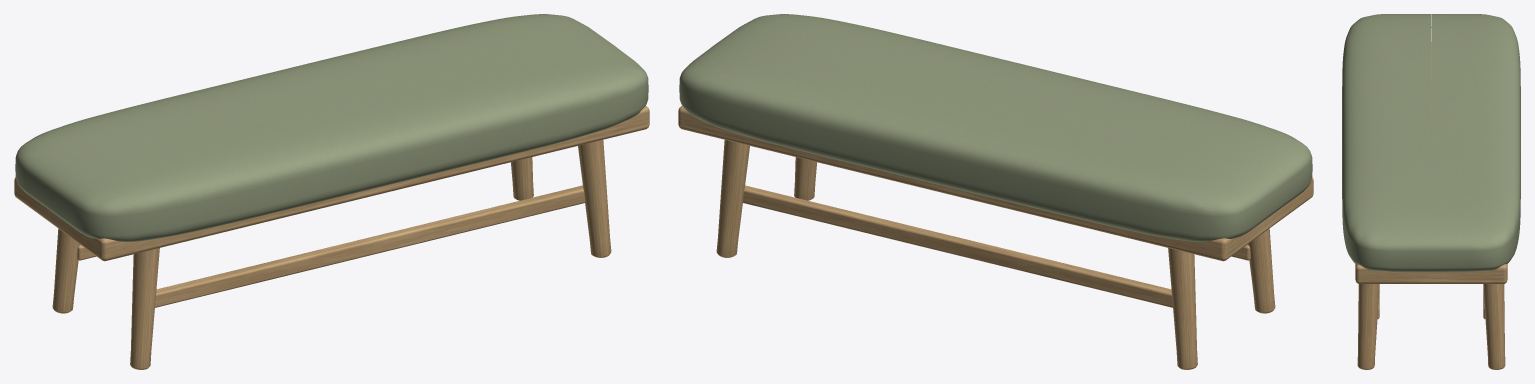
File: bench_oak.glb
3 views of the same model, side by side, from view 1: azimuth 30°, elevation 25°; view 2: azimuth 150°, elevation 25°; view 3: azimuth 270°, elevation 25° (orthographic). The views are drawn at different scales.
Parts seen in each view (by area): view 1: Linen_Sage_detail_group, Oak_detail_group; view 2: Linen_Sage_detail_group, Oak_detail_group; view 3: Linen_Sage_detail_group, Oak_detail_group.
Boxes of the visible parts, box(x1,y1,x2,y2) form: Linen_Sage_detail_group: box(15, 14, 648, 241); Oak_detail_group: box(14, 106, 649, 369); Linen_Sage_detail_group: box(679, 14, 1312, 241); Oak_detail_group: box(678, 106, 1313, 369); Linen_Sage_detail_group: box(1342, 14, 1520, 271); Oak_detail_group: box(1355, 42, 1507, 369).
Bounding box in the file's own units: 1.85 × 0.571 × 0.6.
Materials: 3 (2 with a texture image).
